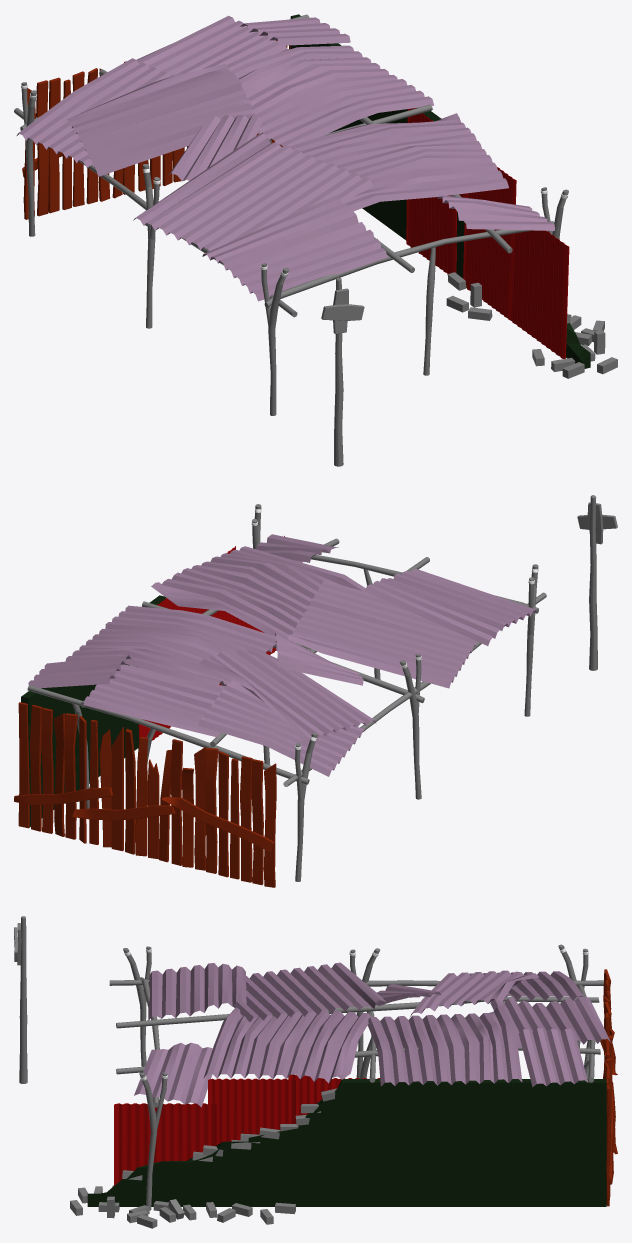
Rendered from Clinique_01.fbx.
3 renders of one model, top to bottom at view 1: azimuth 30°, elevation 25°; view 2: azimuth 150°, elevation 25°; view 3: azimuth 270°, elevation 25°, orthographic. The views are drawn at different scales.
Parts seen in each view (by area): view 1: Clinique_01; view 2: Clinique_01; view 3: Clinique_01.
Boxes of the visible parts, bbox=[...] form: Clinique_01: bbox=[14, 14, 617, 466]; Clinique_01: bbox=[14, 495, 617, 887]; Clinique_01: bbox=[14, 916, 617, 1228].
Bounding box in the file's own units: 756 × 373 × 1221.
